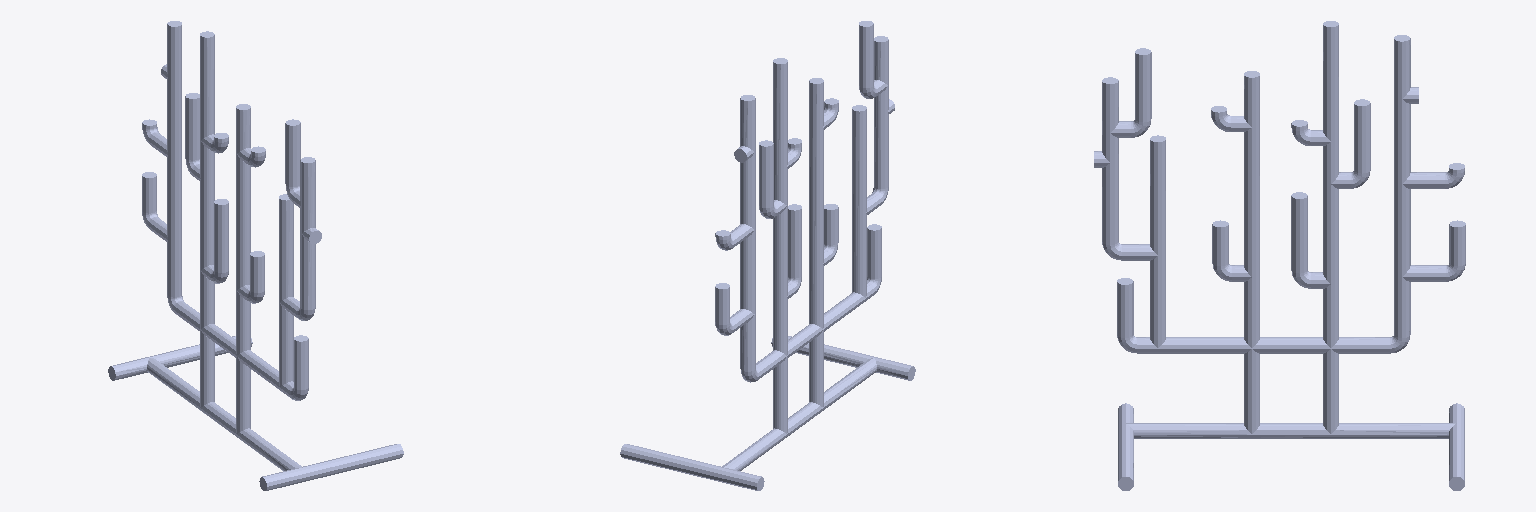
robot.urdf — coralColony:
<?xml version="1.0" encoding="utf-8"?>
<!-- This URDF was automatically created by SolidWorks to URDF Exporter! Originally created by [author] ([email redacted]) 
     Commit Version: 1.6.0-1-g15f4949  Build Version: 1.6.7594.29634
     For more information, please see http://wiki.ros.org/sw_urdf_exporter -->
<robot
  name="coralColony">
  <link
    name="base_link">
    <inertial>
      <origin
        xyz="0.0052915 -0.015926 0.24135"
        rpy="0 0 0" />
      <mass
        value="1.4718" />
      <inertia
        ixx="0.070288"
        ixy="-0.00012404"
        ixz="0.0017986"
        iyy="0.042002"
        iyz="0.0010243"
        izz="0.030333" />
    </inertial>
    <visual>
      <origin
        xyz="0 0 0"
        rpy="0 0 0" />
      <geometry>
        <mesh
          filename="package://coralColony/meshes/base_link.STL" />
      </geometry>
      <material
        name="">
        <color
          rgba="0.79216 0.81961 0.93333 1" />
      </material>
    </visual>
    <collision>
      <origin
        xyz="0 0 0"
        rpy="0 0 0" />
      <geometry>
        <mesh
          filename="package://coralColony/meshes/base_link.STL" />
      </geometry>
    </collision>
  </link>
  <gazebo>
    <static>true</static>
  </gazebo>

</robot>

--- Render facts (derived) ---
3 views of the same robot in one strip: view 1: azimuth 30°, elevation 25°; view 2: azimuth 150°, elevation 25°; view 3: azimuth 270°, elevation 25° (orthographic).
Robot: coralColony — 1 links, 0 joints (none); root link base_link; default pose: every joint at zero.
Visible links, largest first — view 1: base_link; view 2: base_link; view 3: base_link.
Boxes of the visible links, <box> form: base_link: <box>108,21,403,490</box>; base_link: <box>620,21,915,490</box>; base_link: <box>1094,21,1465,490</box>.
Bounding box of the posed robot: 0.221 × 0.4757 × 0.5846 m (x, y, z).
1 mesh visuals loaded from 1 distinct referenced files (1 binary STL).